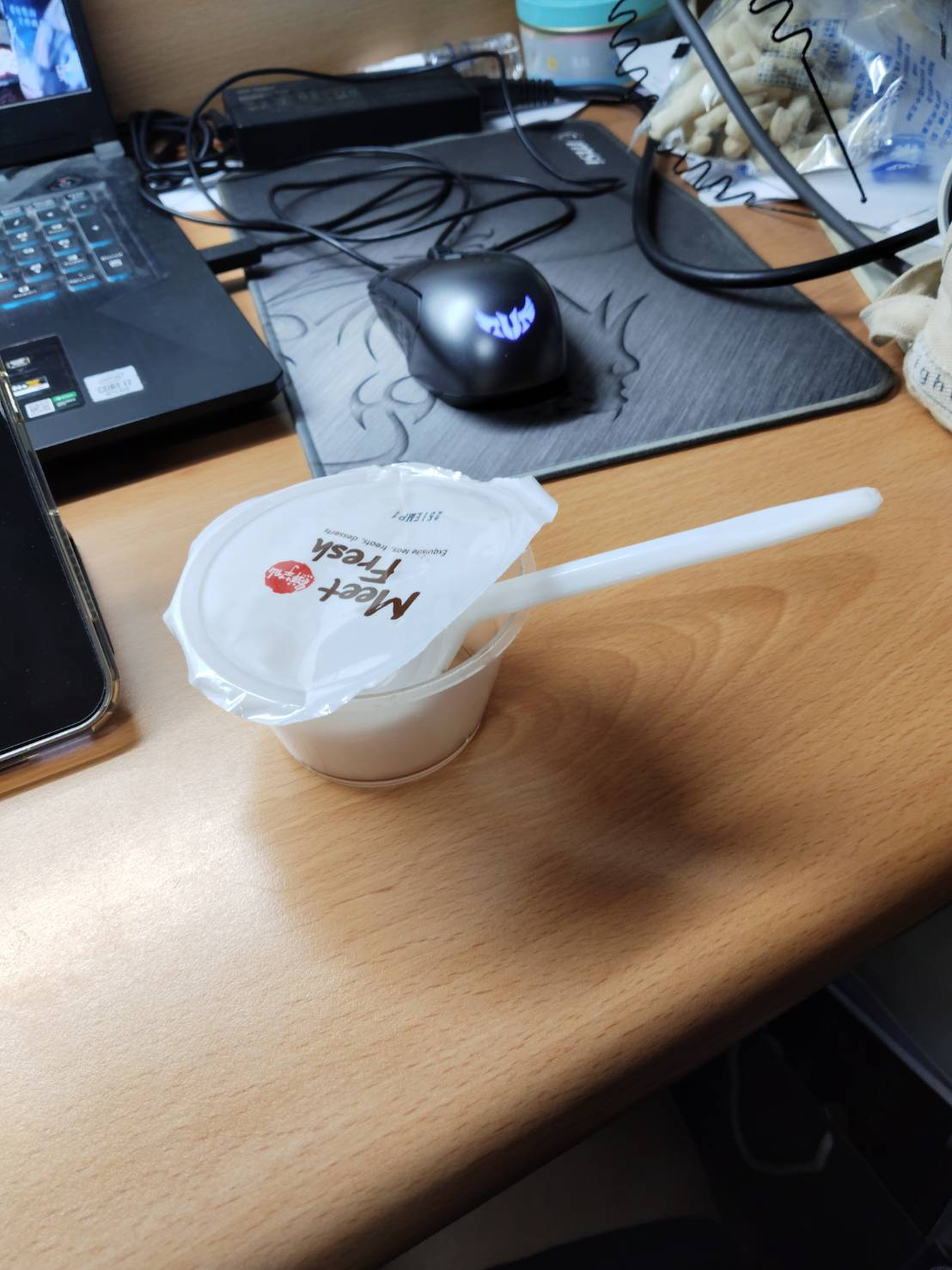plastic: (100, 396, 952, 831)
